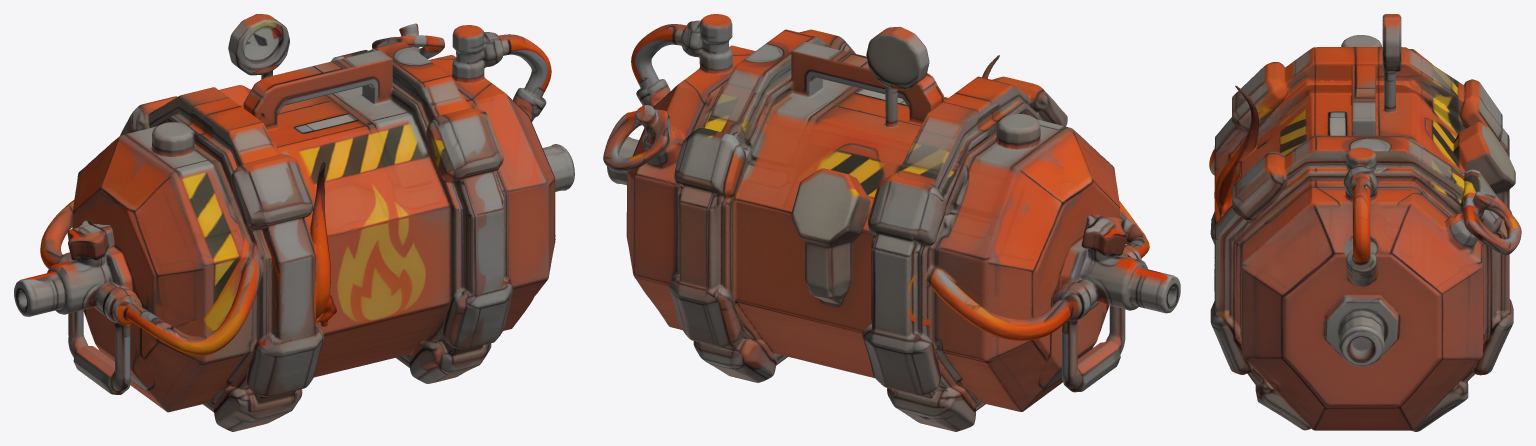
File: FuelTank3D.fbx
3 renders of one model, left to right at view 1: azimuth 30°, elevation 25°; view 2: azimuth 150°, elevation 25°; view 3: azimuth 270°, elevation 25°, orthographic. The views are drawn at different scales.
Parts seen in each view (by area): view 1: tripo_node_d3b222a1; view 2: tripo_node_d3b222a1; view 3: tripo_node_d3b222a1.
Boxes of the visible parts, bbox=[...] form: tripo_node_d3b222a1: bbox=[14, 14, 574, 431]; tripo_node_d3b222a1: bbox=[603, 14, 1180, 431]; tripo_node_d3b222a1: bbox=[1209, 14, 1521, 431].
Bounding box in the file's own units: 1 × 0.641 × 0.5259.
